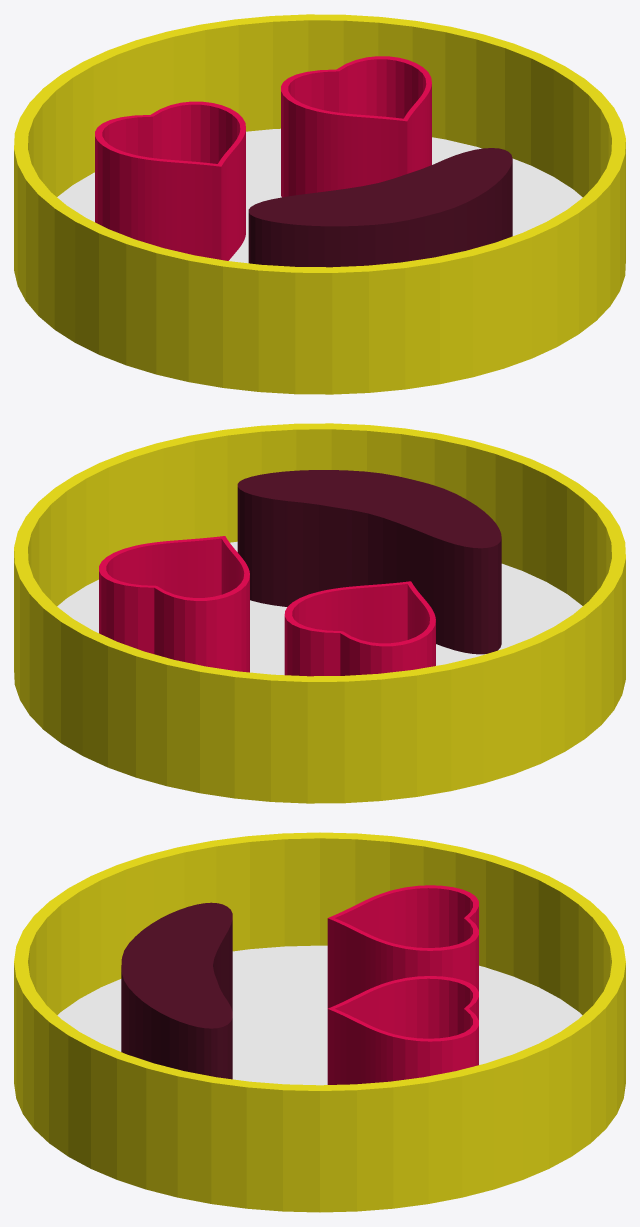
File: Smiley.fbx
3 renders of one model, top to bottom at view 1: azimuth 30°, elevation 25°; view 2: azimuth 150°, elevation 25°; view 3: azimuth 270°, elevation 25°, orthographic.
Visible parts, largest first — view 1: Smiley; view 2: Smiley; view 3: Smiley.
Part boxes in pixels (x1=…): Smiley: x1=14, y1=14, x2=625, y2=394; Smiley: x1=14, y1=423, x2=625, y2=803; Smiley: x1=14, y1=832, x2=625, y2=1212.
Size of the model in its own units: 1974 by 432 by 1974.
Materials: 1 (1 with a texture image).
